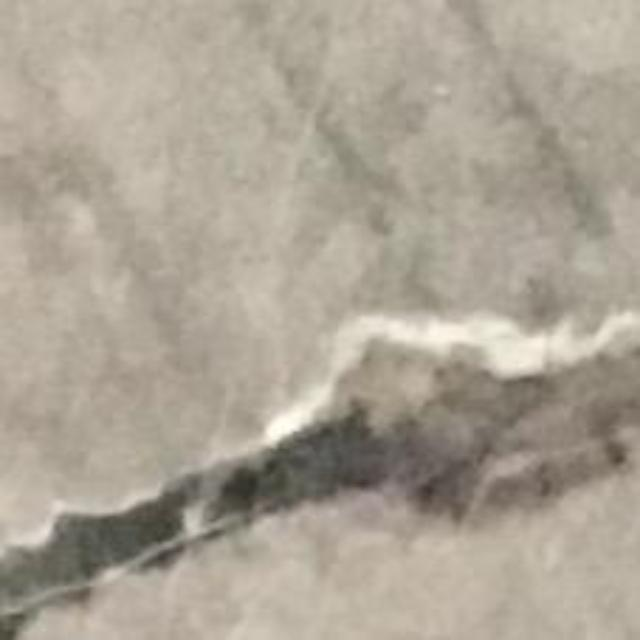crack: (0, 333, 639, 639)
